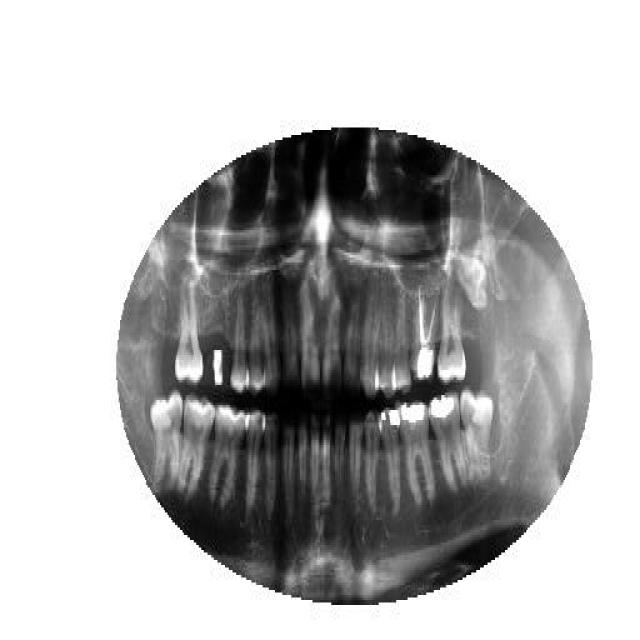Fillings: (399, 400, 435, 505), (430, 392, 466, 490), (379, 408, 400, 518)
Implant: (414, 280, 436, 382)
